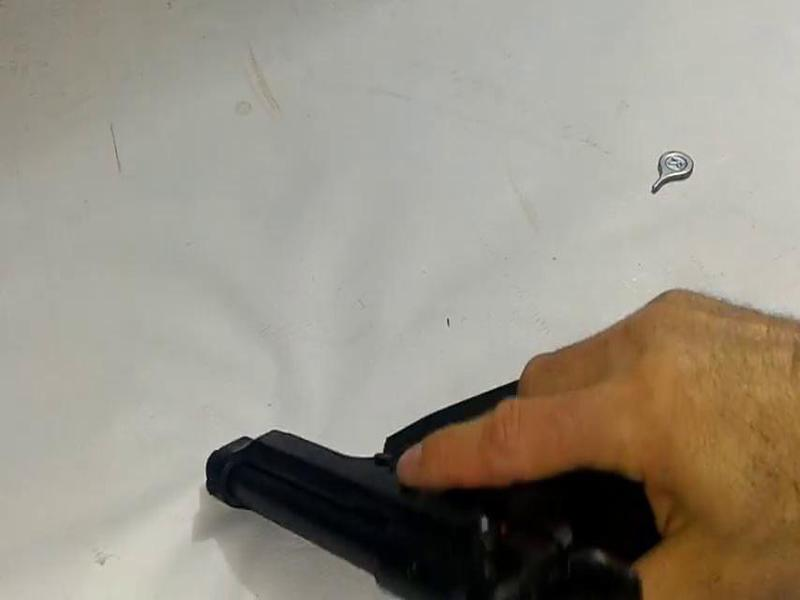Pistola: (160, 334, 760, 600)
